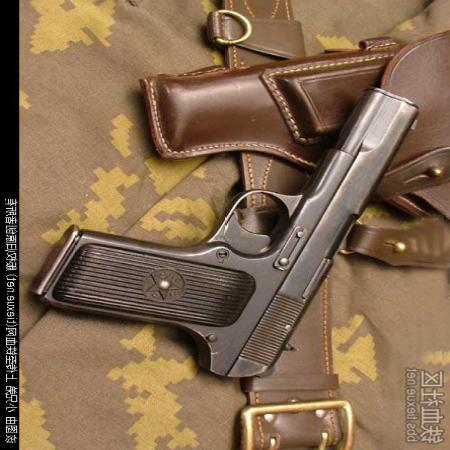Pistol: (33, 87, 424, 386)
